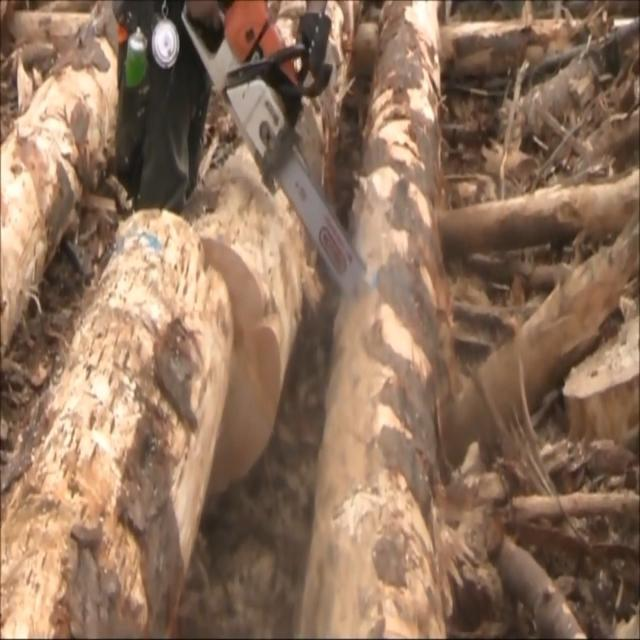Chainsaw: (175, 0, 375, 323)
